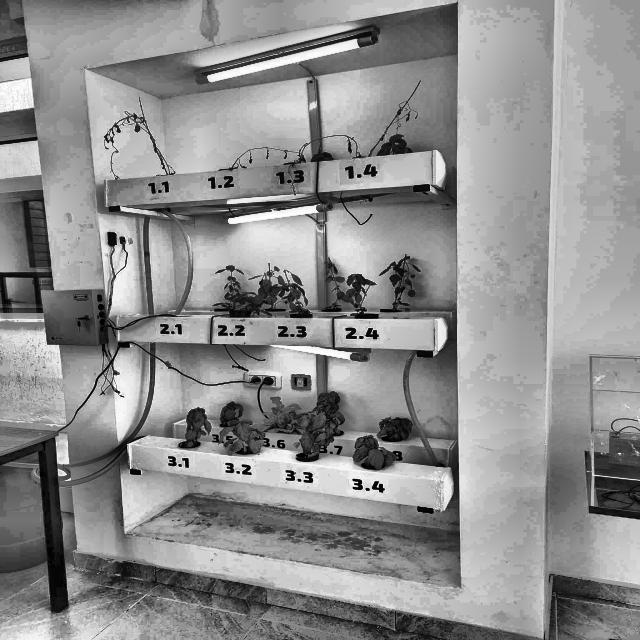plants: (102, 97, 178, 176), (367, 80, 419, 157), (338, 136, 392, 200), (238, 264, 293, 315), (382, 255, 427, 315), (260, 394, 313, 433), (221, 147, 316, 168), (338, 272, 378, 318), (177, 409, 218, 449), (219, 418, 262, 456), (353, 436, 400, 466), (295, 409, 323, 459), (302, 135, 359, 159), (279, 268, 307, 314), (322, 258, 346, 310), (318, 390, 344, 437), (222, 260, 245, 310), (375, 128, 410, 156), (378, 418, 410, 441), (219, 402, 244, 425)
